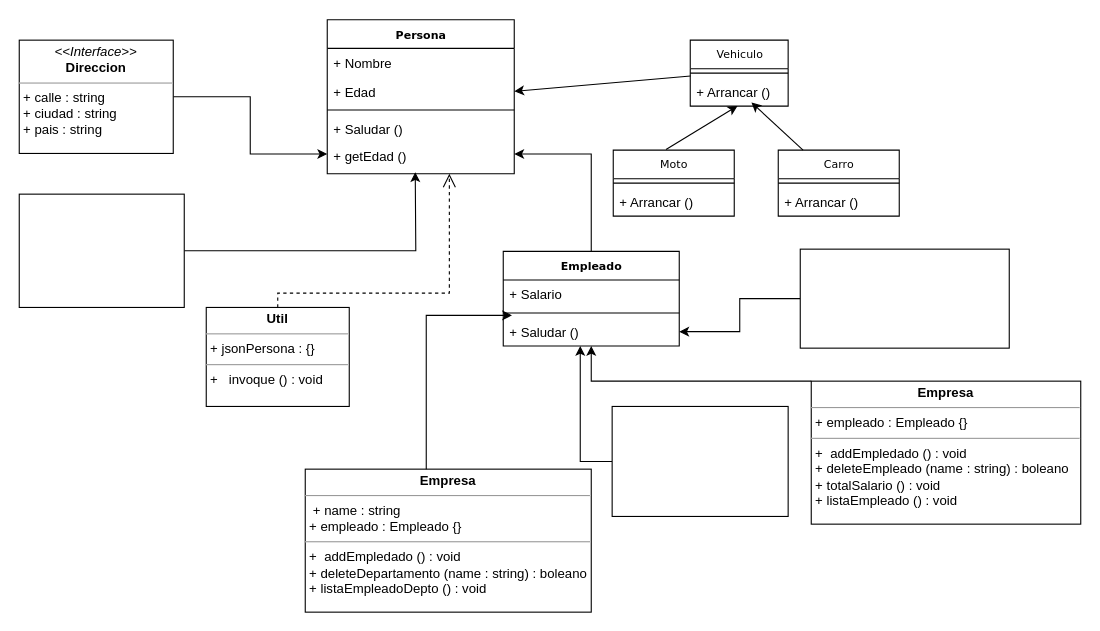
Some shapes in this 1100 by 631 pixel diagram are drawn without their labels. The centre of each missing label's shape, as x and y in pixels:
"<<enum>> Estado Civil + SOLTERO + CASADO + DIVIORCIADO" belongs at [101,250].
"jsonEmpleado + jsonEmpleado : {} + debueveJson () : object" belongs at [904,298].
"Proyecto + name : string + empleado : Empleado {} + verProyecto() : void" belongs at [699,460].
